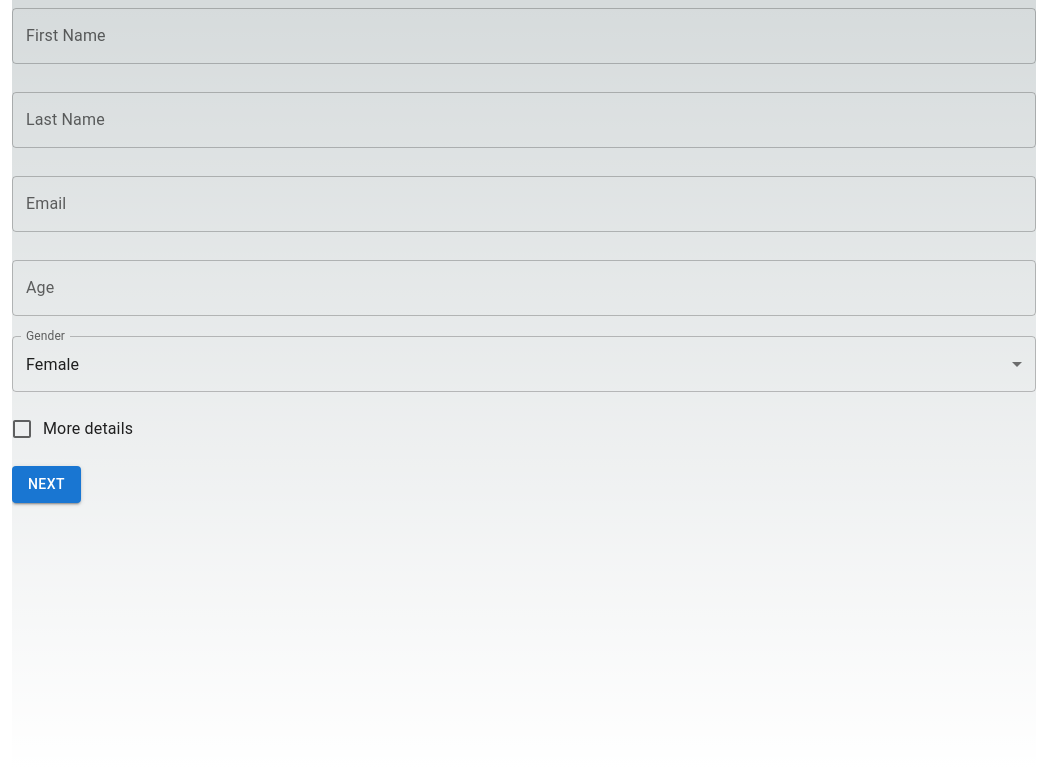
Test case: FormFirstStep fails › with 2 required fields
Click the button "Next" at [46, 484], box top-left (12, 466), bottom-right (81, 502)
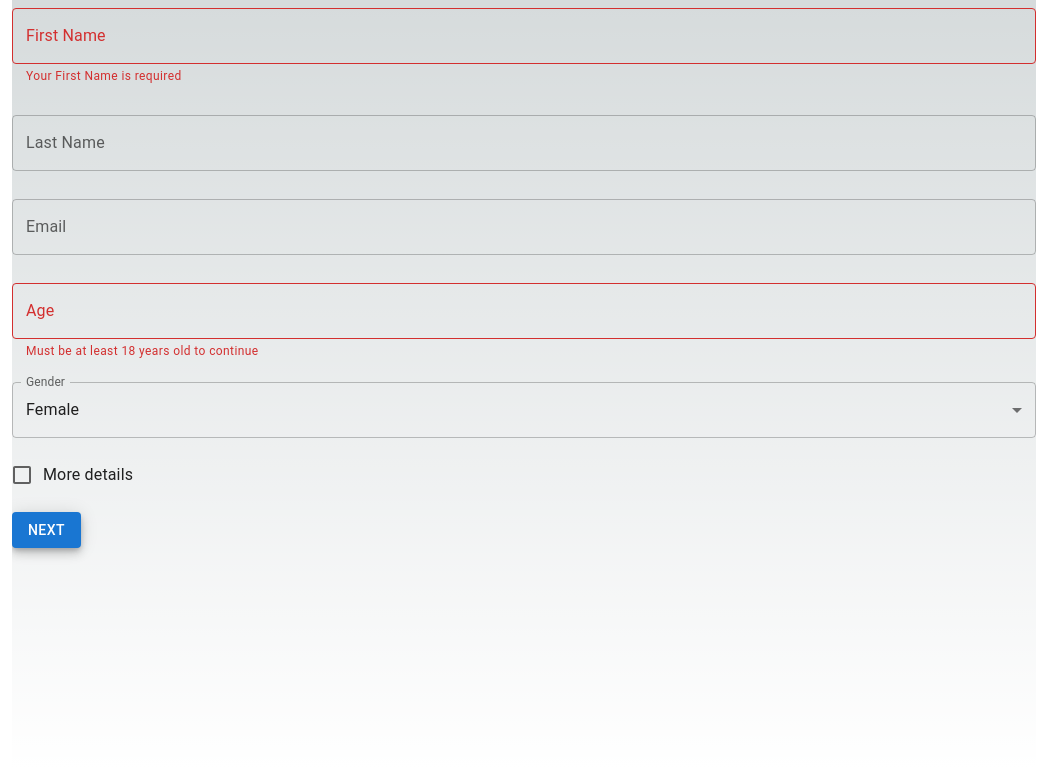
Result: the text "Your First Name is required" is shown at top-left (26, 69), bottom-right (182, 83)
Result: the text "Must be at least 18 years old to continue" is shown at top-left (26, 344), bottom-right (258, 358)
